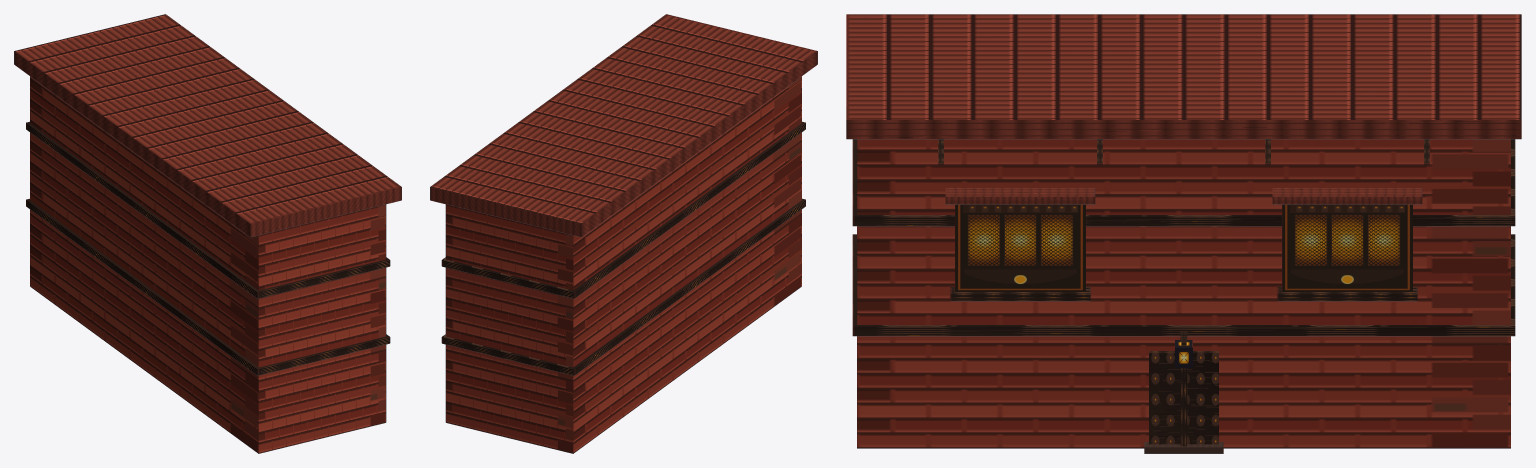
Rendered from kathmandu_facade_variant_a.glb.
3 renders of one model, left to right at view 1: azimuth 30°, elevation 25°; view 2: azimuth 150°, elevation 25°; view 3: azimuth 270°, elevation 25°, orthographic. The views are drawn at different scales.
Visible parts, largest first — view 1: FacadeA_Root; view 2: FacadeA_Root; view 3: FacadeA_Root.
Boxes of the visible parts, box(x1,y1,x2,y2) form: FacadeA_Root: box(14, 14, 401, 453); FacadeA_Root: box(430, 14, 817, 453); FacadeA_Root: box(846, 14, 1521, 453).
Bounding box in the file's own units: 5.61 × 7.97 × 14.47.
2 materials, 1 textured.
